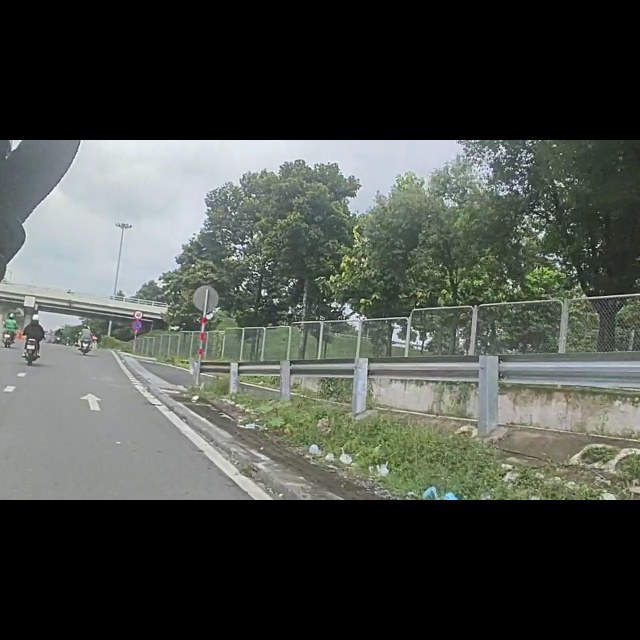bien_cam: (131, 320, 142, 338), (134, 301, 143, 318)
